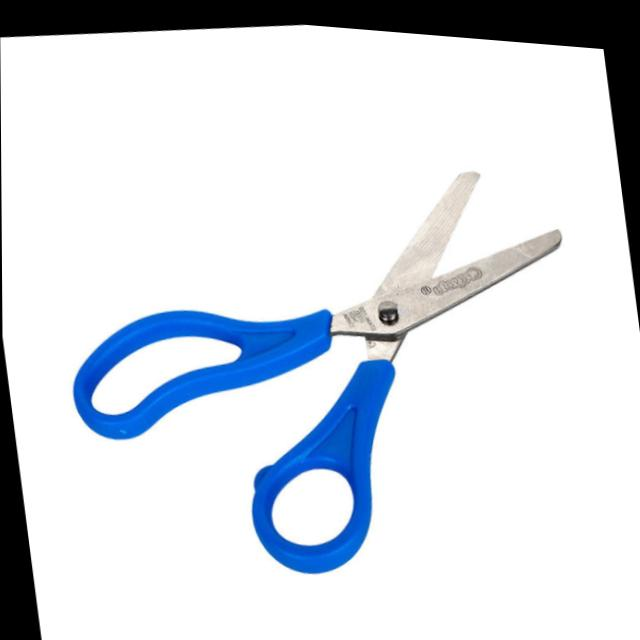scissor: (20, 114, 621, 637)
